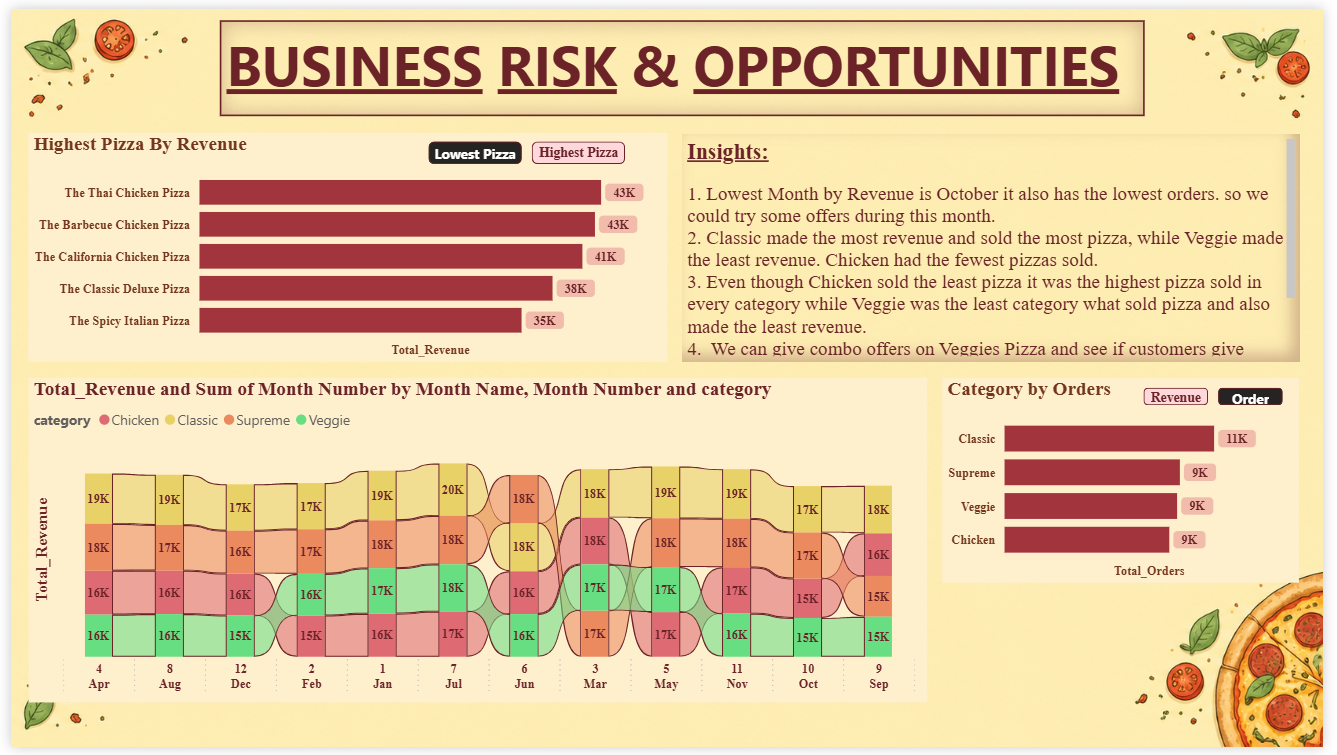

What the dashboard file says about the page in this screenshot:
{"tool":"powerbi","page":{"name":"Business Risk and Opportunities ","canvas":[1280,720],"ordinal":3},"visuals":[{"type":"textbox","box":[203.3,10.5,902.2,93.4],"z":0},{"type":"clusteredBarChart","title":"Lowest Pizza By Revenue ","fields":{"Category":["df_order_pizza.name"],"Y":["Measure_Table_1.Total_Revenue"]},"box":[16.7,121.7,623.1,222.2],"z":1000},{"type":"clusteredBarChart","title":"Highest Pizza By Revenue ","fields":{"Category":["df_order_pizza.name"],"Y":["Measure_Table_1.Total_Revenue"]},"box":[16.7,120.6,623.1,223.3],"z":2000},{"type":"ribbonChart","fields":{"Category":["Calendar.Month Name","Calendar.Month Number"],"Y":["Measure_Table_1.Total_Revenue"],"Series":["df_order_pizza.category"]},"box":[16.7,359.6,876.6,317.1],"z":4000},{"type":"textbox","box":[654.7,122.1,602.3,222.1],"z":5000},{"type":"barChart","title":"Category by Orders","fields":{"Y":["Measure_Table_1.Total_Orders"],"Category":["df_order_pizza.category"]},"box":[908.9,359.6,348.4,199.9],"z":6000},{"type":"bookmarkNavigator","box":[407.6,129.5,193.2,22.3],"z":7000},{"type":"bookmarkNavigator","box":[1105.5,369.6,136.2,17.9],"z":8000}]}

Visuals, with their boxes in screenshot pixels (x1, y1, x2, y2), scaled from the page's 1280x720 canvas onto the 1337x755 screenshot:
textbox: x1=212 y1=11 x2=1155 y2=109
"Lowest Pizza By Revenue " clusteredBarChart: x1=17 y1=128 x2=668 y2=361
"Highest Pizza By Revenue " clusteredBarChart: x1=17 y1=126 x2=668 y2=361
ribbonChart - Calendar.Month Name x Calendar.Month Number: x1=17 y1=377 x2=933 y2=710
textbox: x1=684 y1=128 x2=1313 y2=361
"Category by Orders" barChart: x1=949 y1=377 x2=1313 y2=587
bookmarkNavigator: x1=426 y1=136 x2=628 y2=159
bookmarkNavigator: x1=1155 y1=388 x2=1297 y2=406
